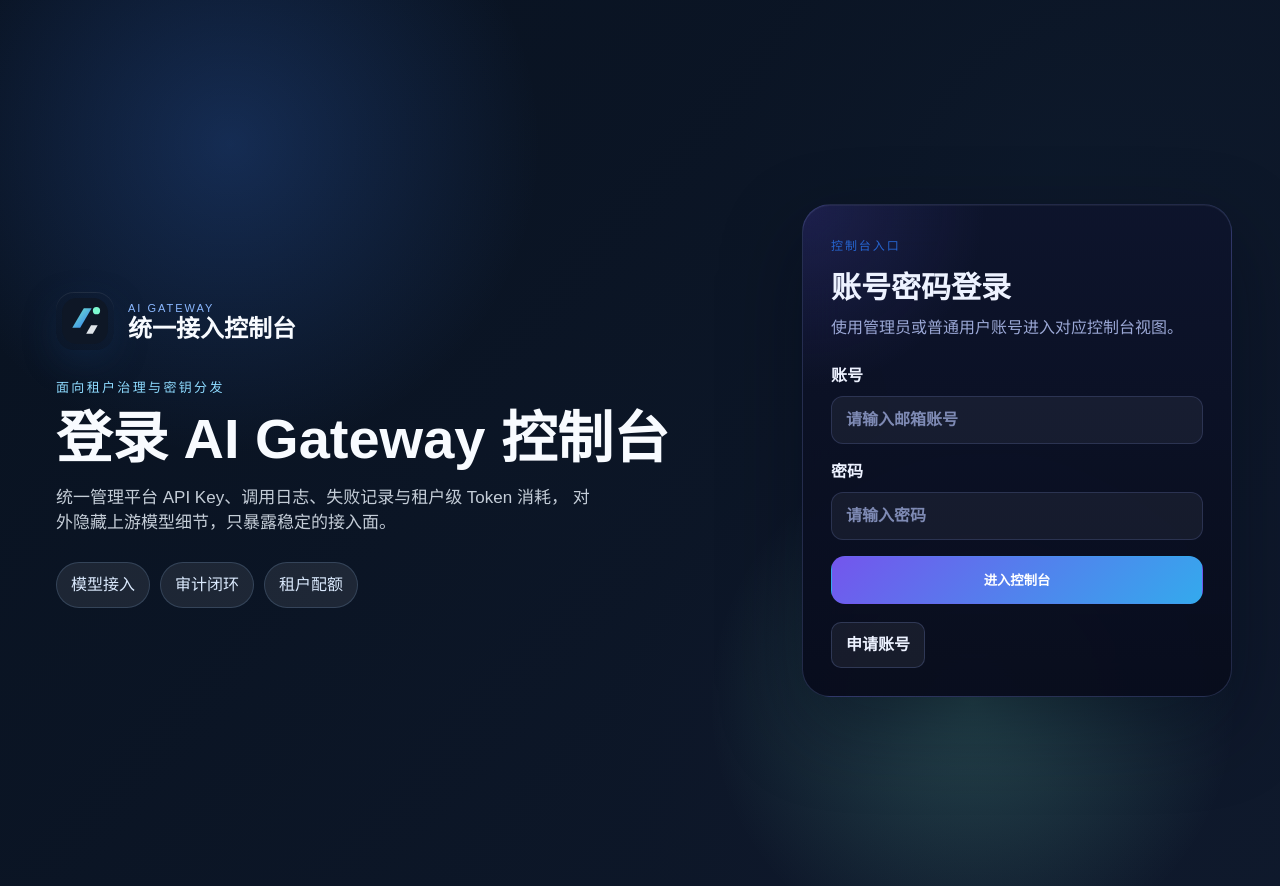
Test: 控制台路由 › 未登录时提供账号申请入口并可跳转到申请页
The image size is (1280, 886).
Click the link "申请账号": point(878, 644) [831, 622, 925, 668]
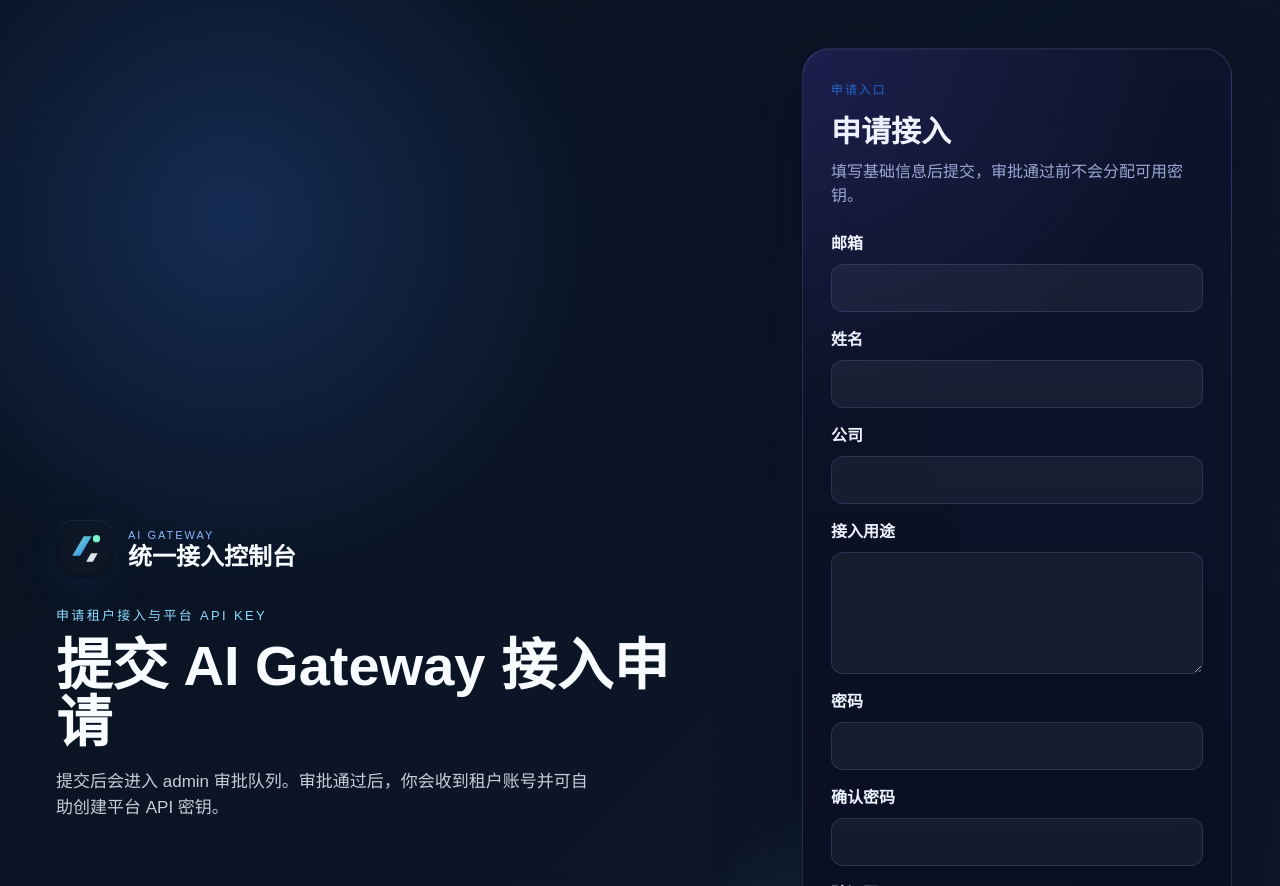
Expected: the heading "申请接入" is shown, [831, 115, 951, 148]
